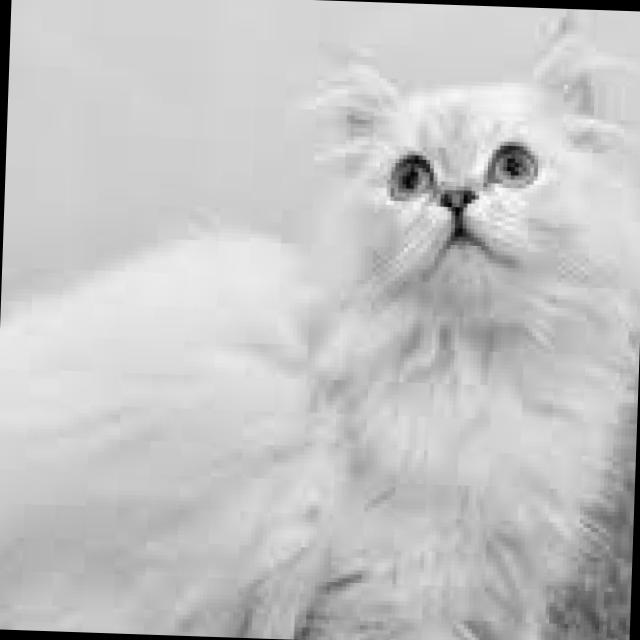iran: (260, 0, 640, 385)
